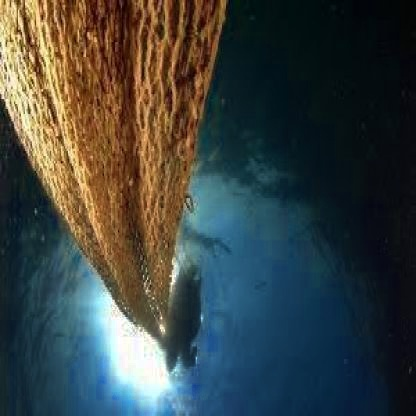net: (1, 2, 226, 335)
